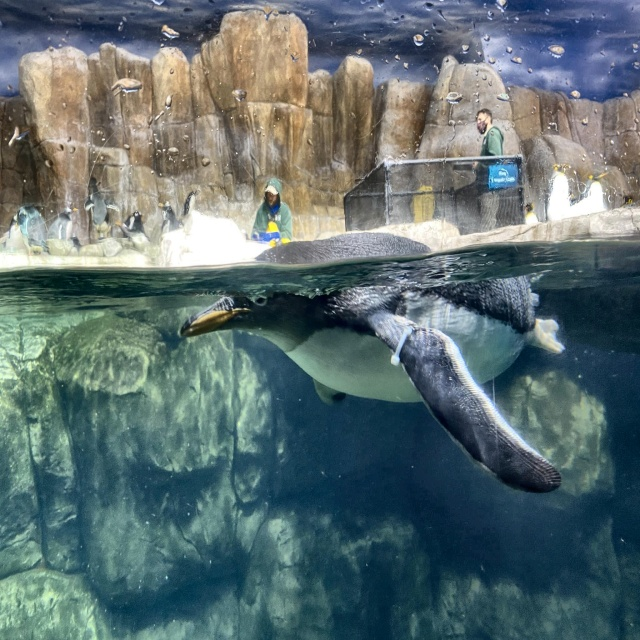penguin: (179, 232, 566, 494), (85, 178, 118, 231), (18, 205, 51, 253), (548, 162, 571, 221), (49, 205, 78, 241), (583, 171, 608, 212), (157, 200, 179, 236), (2, 210, 20, 251), (124, 210, 145, 241), (185, 188, 199, 217), (522, 201, 538, 226), (622, 194, 636, 214)
